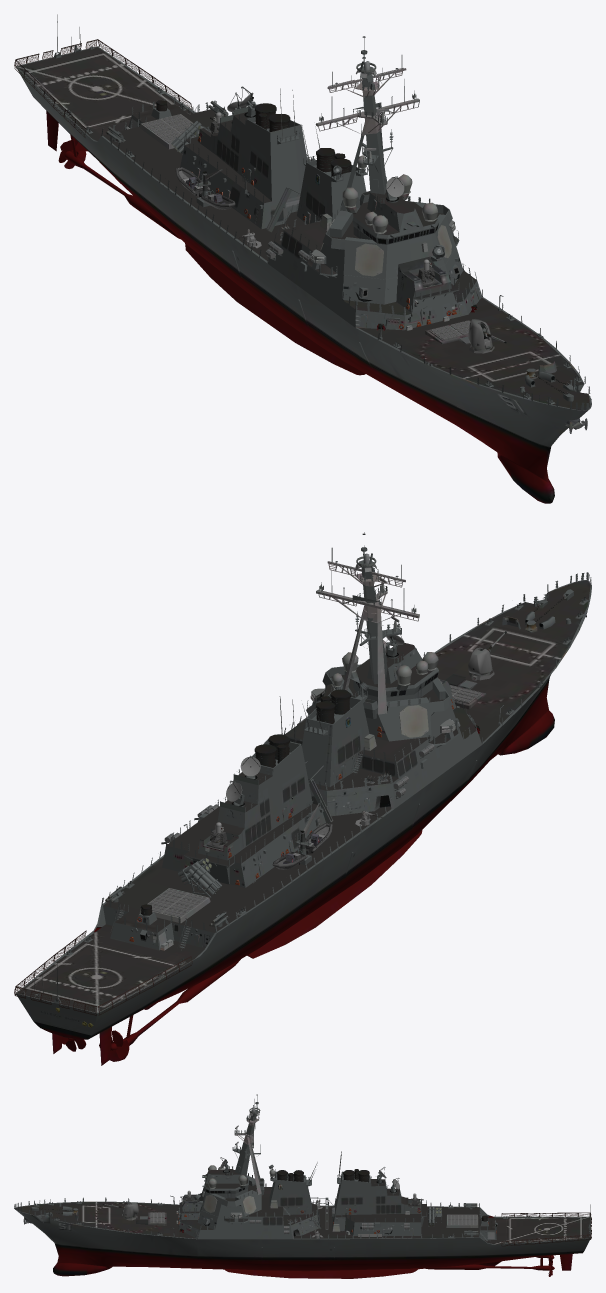
3 renders of one model, top to bottom at view 1: azimuth 30°, elevation 25°; view 2: azimuth 150°, elevation 25°; view 3: azimuth 270°, elevation 25°, orthographic. The views are drawn at different scales.
Visible parts, largest first — view 1: Object_6, Object_12, Object_14; view 2: Object_6, Object_14, Object_12; view 3: Object_6, Object_14.
Part boxes in pixels (<box>): Object_6: <box>14,14,591,503</box>; Object_12: <box>175,167,235,209</box>; Object_14: <box>227,86,404,202</box>; Object_6: <box>14,532,591,1065</box>; Object_14: <box>226,624,404,806</box>; Object_12: <box>272,823,332,869</box>; Object_6: <box>14,1094,591,1278</box>; Object_14: <box>220,1157,399,1193</box>.
Size of the model in its own units: 24.73 by 53.44 by 154.
5 materials, 5 textured.
